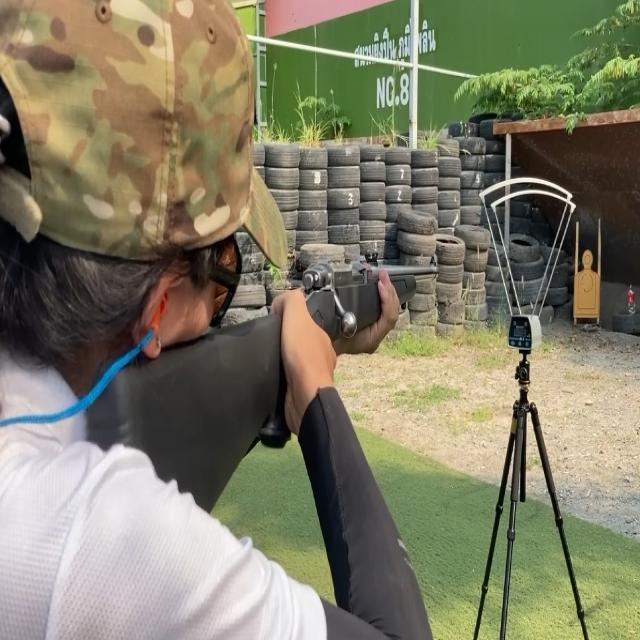rifle: (77, 256, 452, 518)
